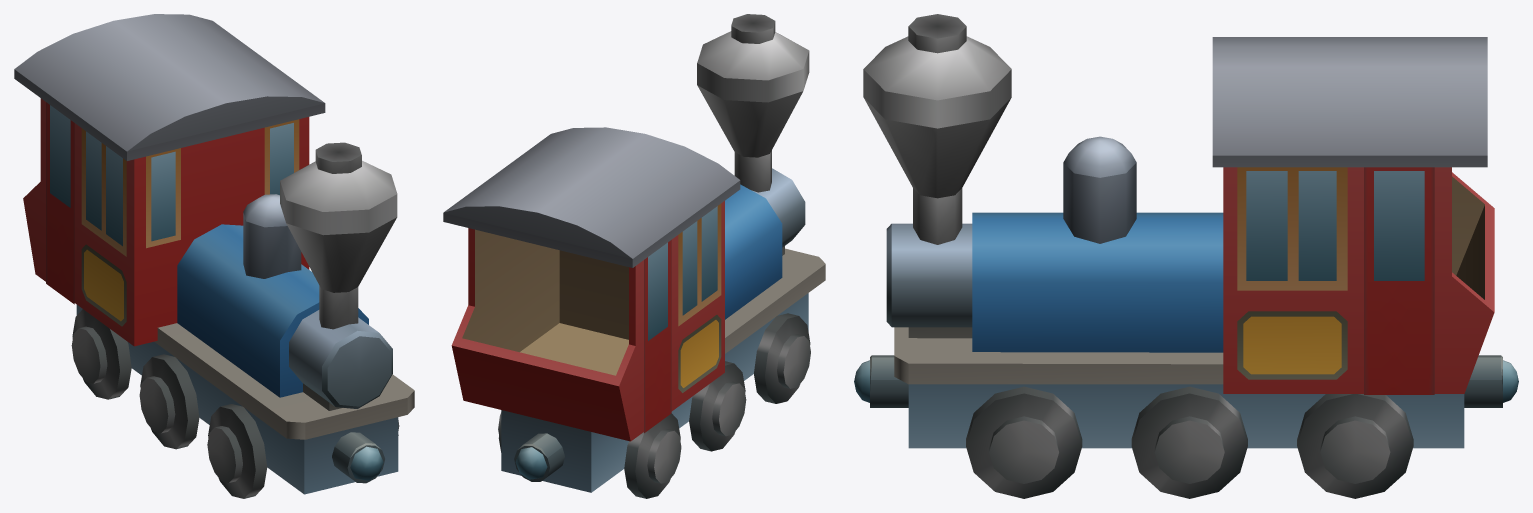
File: Steam_Engine_B.fbx
3 renders of one model, left to right at view 1: azimuth 30°, elevation 25°; view 2: azimuth 150°, elevation 25°; view 3: azimuth 270°, elevation 25°, orthographic. The views are drawn at different scales.
Parts seen in each view (by area): view 1: Steam_Engine_B; view 2: Steam_Engine_B; view 3: Steam_Engine_B.
Part boxes in pixels (<box>): Steam_Engine_B: <box>14,14,414,498</box>; Steam_Engine_B: <box>443,14,825,498</box>; Steam_Engine_B: <box>854,14,1518,498</box>.
Bounding box in the file's own units: 335 × 569 × 797.
